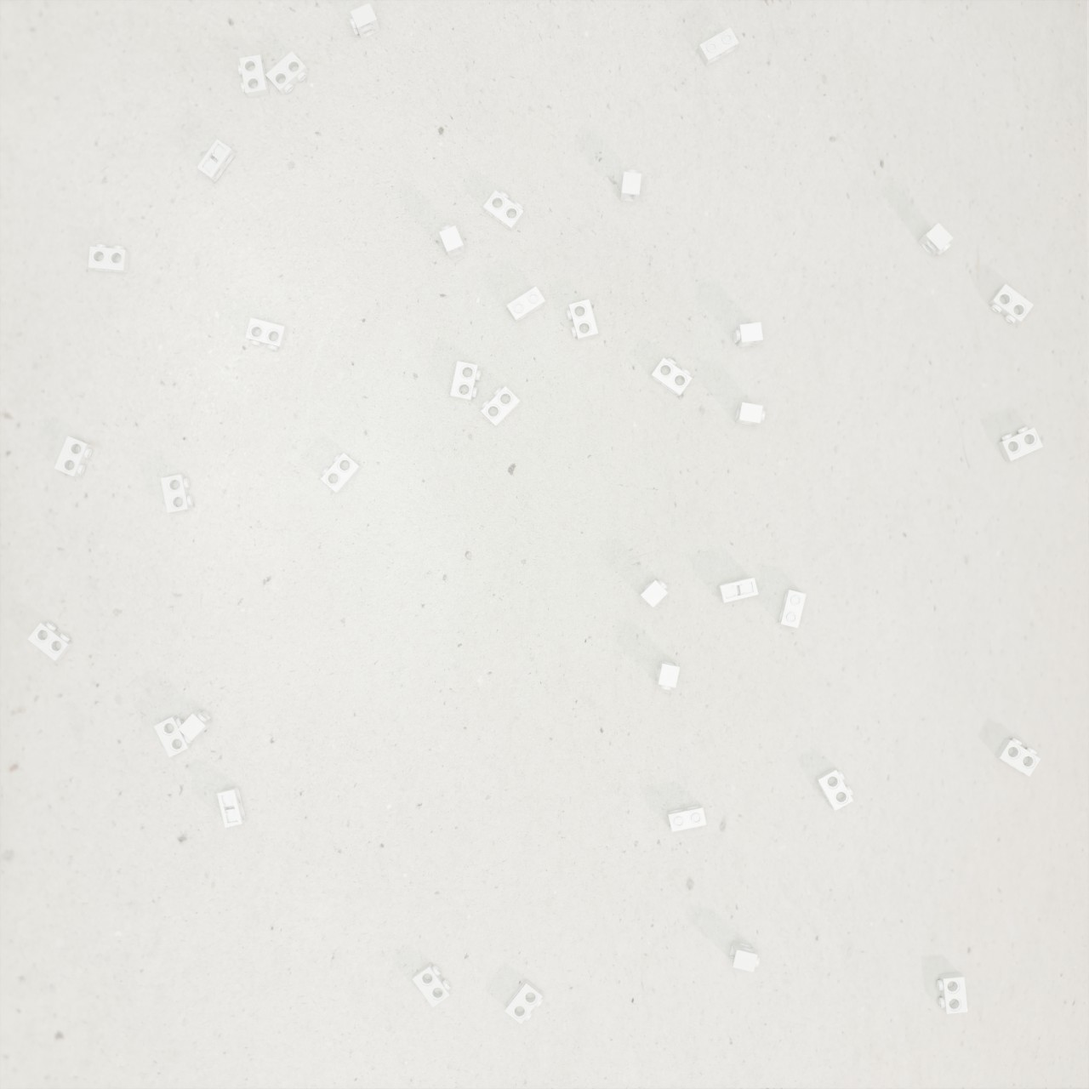lego: (265, 51, 308, 95), (988, 284, 1034, 324), (504, 978, 544, 1024), (27, 622, 74, 661), (412, 962, 451, 1008), (995, 738, 1041, 777), (196, 139, 236, 183), (320, 453, 362, 494), (483, 190, 524, 232), (815, 767, 854, 811), (153, 715, 192, 758), (997, 426, 1043, 462), (698, 27, 739, 67), (481, 386, 521, 427), (650, 358, 692, 397), (54, 436, 92, 477), (506, 286, 546, 323), (245, 317, 288, 351), (566, 299, 599, 341), (238, 55, 269, 98), (937, 972, 968, 1014), (160, 474, 193, 513), (88, 244, 130, 274), (450, 361, 481, 401), (917, 223, 953, 257), (217, 786, 246, 828), (349, 3, 381, 39), (667, 804, 707, 832), (778, 589, 806, 628), (178, 710, 213, 741), (718, 577, 759, 603), (729, 941, 760, 972), (638, 579, 668, 608), (439, 225, 465, 258), (733, 322, 763, 347), (620, 169, 642, 203), (735, 402, 765, 426), (656, 661, 680, 690)
